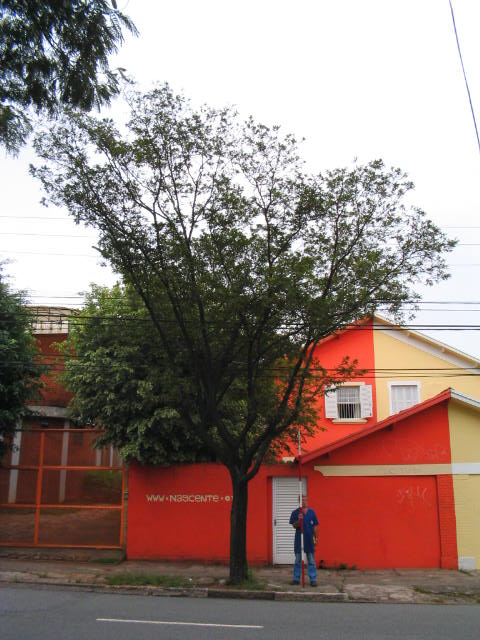crown: (32, 86, 452, 368)
stem: (208, 481, 262, 582)
stick: (292, 430, 309, 590)
tree: (28, 83, 456, 583)
